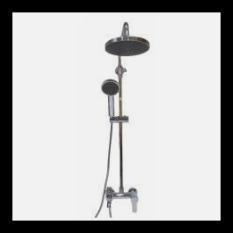Ducha: (84, 20, 152, 220)
